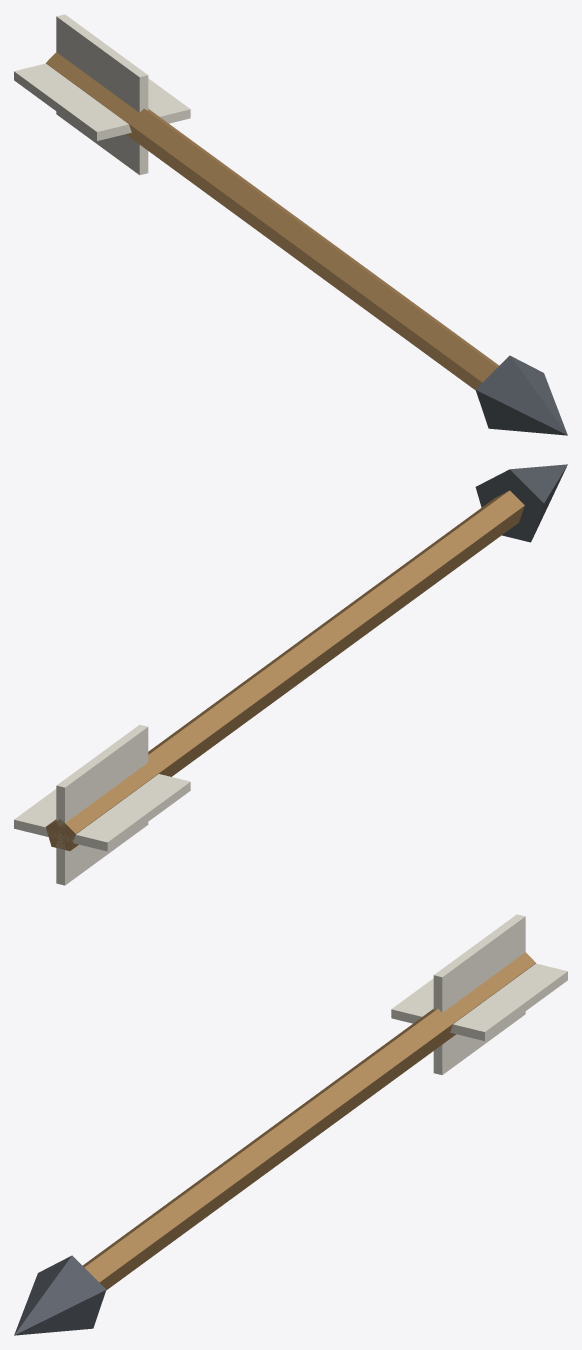
File: arrow_flight.glb
3 views of the same model, one above another, from view 1: azimuth 30°, elevation 25°; view 2: azimuth 150°, elevation 25°; view 3: azimuth 330°, elevation 25° (orthographic).
Visible parts, largest first — view 1: arrow_flight; view 2: arrow_flight; view 3: arrow_flight.
Part boxes in pixels (box(x1,y1,x2,y2)): arrow_flight: box(14, 14, 567, 435); arrow_flight: box(14, 464, 567, 885); arrow_flight: box(14, 914, 567, 1335).
Size of the model in its own units: 0.13 by 0.13 by 1.22.
